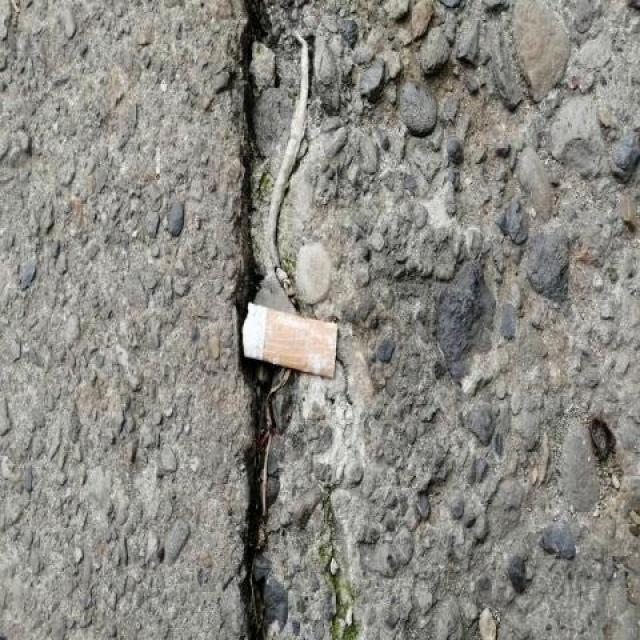non-organic waste: (238, 298, 342, 385)
